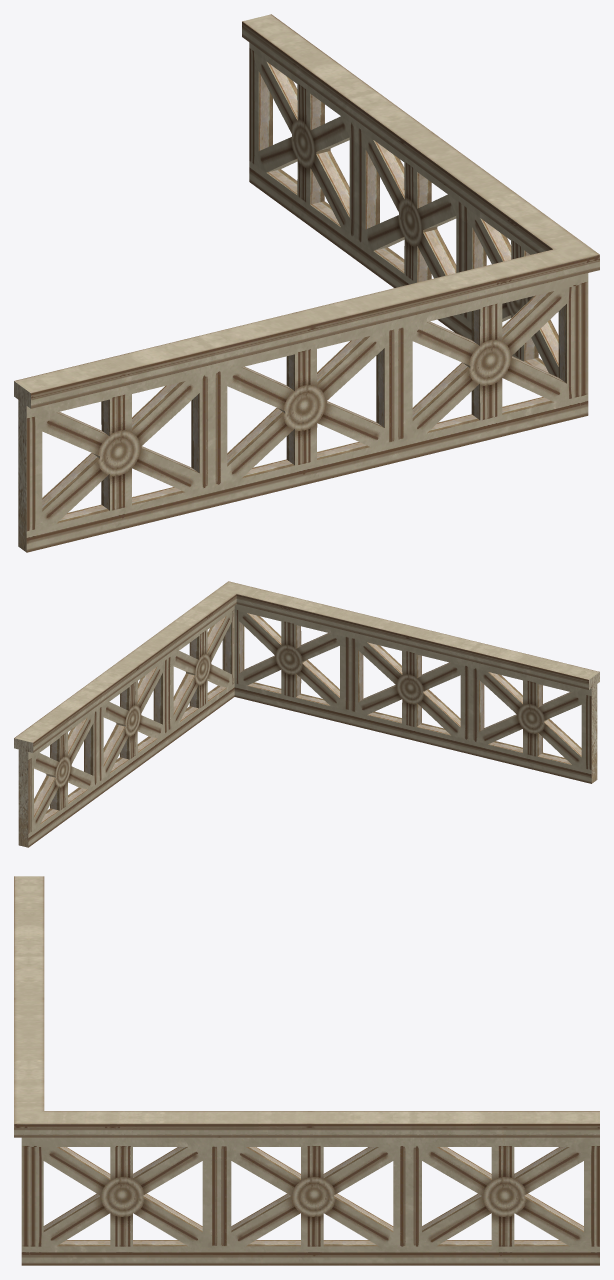
File: svspartarail3.dae
The picture shows the model from 3 angles, top to bottom: view 1: azimuth 30°, elevation 25°; view 2: azimuth 150°, elevation 25°; view 3: azimuth 270°, elevation 25°; orthographic projection. The views are drawn at different scales.
Parts seen in each view (by area): view 1: unnamed_object6_copy57-0; view 2: unnamed_object6_copy57-0; view 3: unnamed_object6_copy57-0.
Part boxes in pixels (bbox=[...]): unnamed_object6_copy57-0: bbox=[14, 14, 599, 552]; unnamed_object6_copy57-0: bbox=[14, 581, 599, 847]; unnamed_object6_copy57-0: bbox=[14, 876, 599, 1265].
Bounding box in the file's own units: 385 × 105 × 385.
